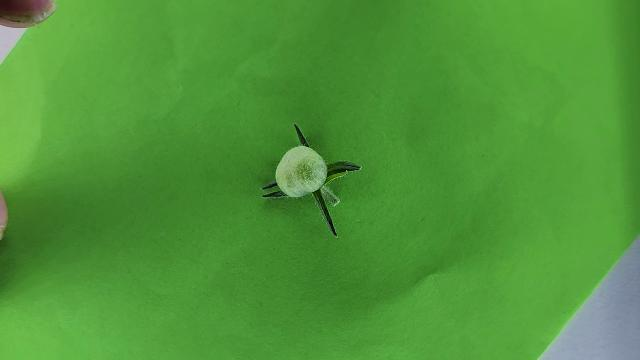Fruit Maturation: (276, 146, 328, 197)
